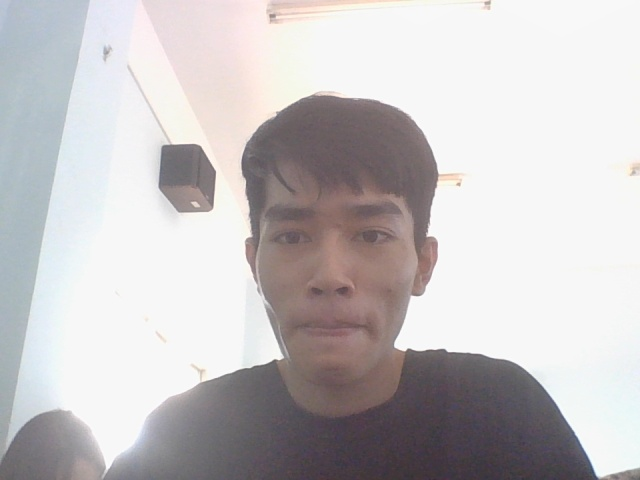real: (224, 78, 454, 404)
